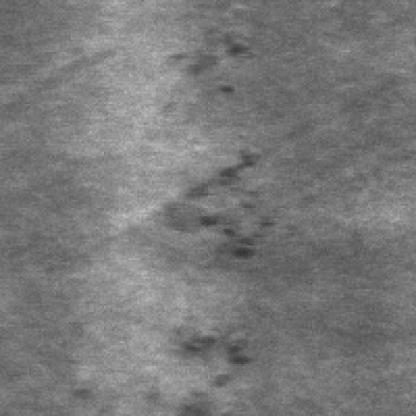rolled-in_scale: (166, 135, 274, 264), (170, 312, 254, 414), (158, 10, 250, 100)
